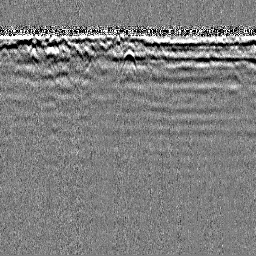cavity: (118, 47, 138, 73)
